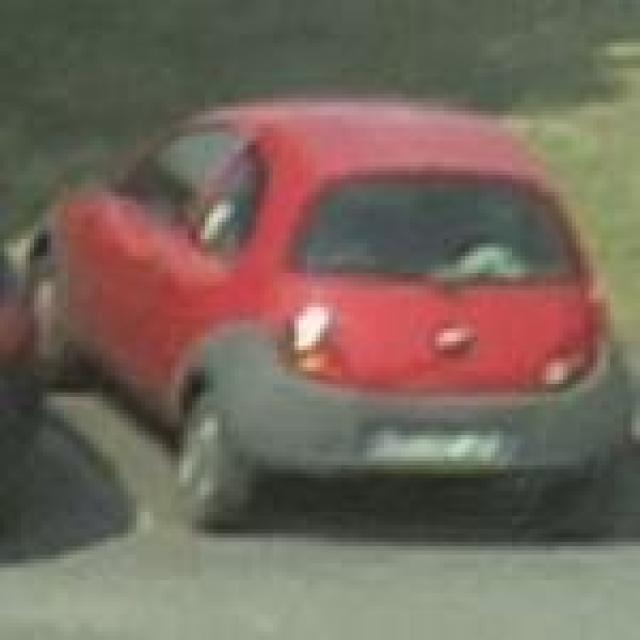cars-sUYr: (0, 60, 634, 558)
